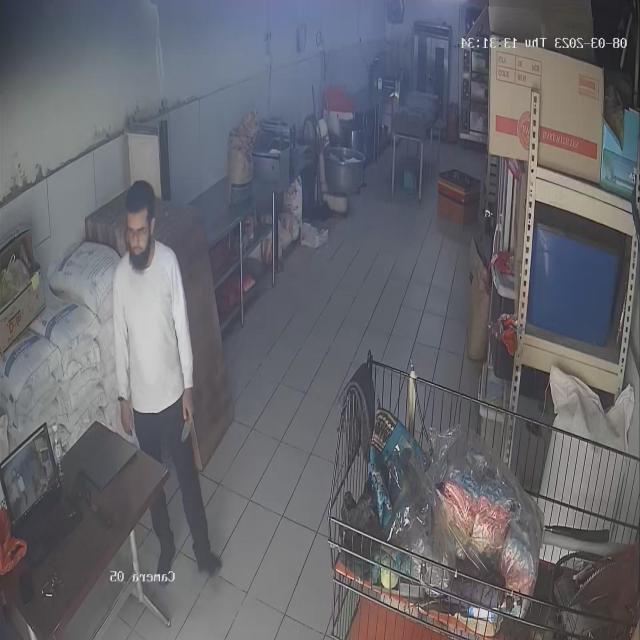Knife: (170, 412, 201, 449)
